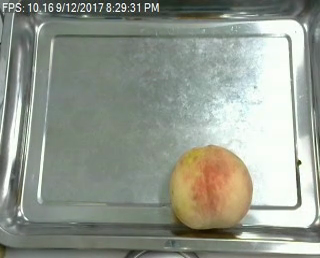Peach: (169, 144, 252, 230)
